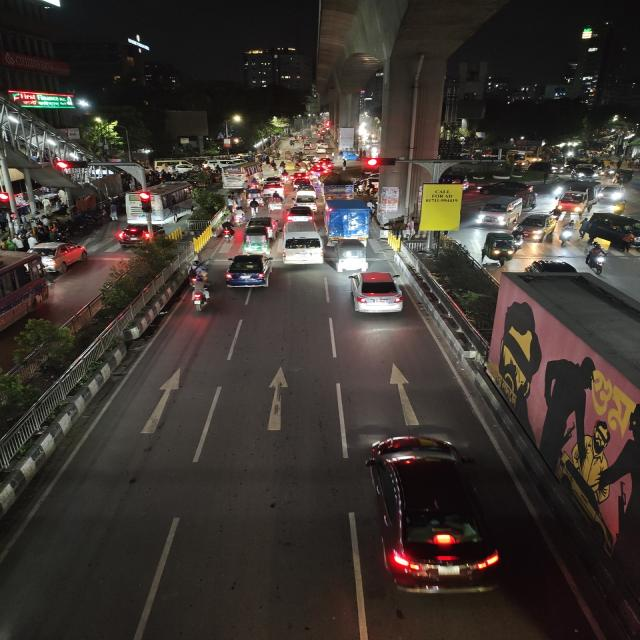bicycle: (248, 202, 262, 218)
bus: (0, 248, 51, 343), (128, 181, 196, 226), (218, 160, 260, 188)
car: (350, 426, 502, 597), (344, 268, 406, 319), (579, 211, 640, 251), (280, 220, 326, 268), (223, 250, 274, 292), (32, 240, 89, 272), (474, 198, 529, 228), (522, 256, 582, 282), (116, 222, 168, 249), (513, 212, 558, 242), (474, 180, 534, 193), (595, 179, 626, 203), (281, 204, 317, 223), (437, 173, 471, 187), (292, 191, 318, 205)
cng: (479, 230, 523, 266), (330, 238, 369, 274), (242, 223, 272, 255), (573, 165, 597, 181), (520, 191, 538, 209)
motorcycle: (186, 262, 213, 306), (186, 280, 213, 314), (584, 245, 610, 276), (186, 260, 210, 286), (558, 220, 576, 247), (217, 220, 236, 242), (231, 206, 247, 226)
pickup_van: (556, 182, 599, 213), (320, 170, 360, 199)
rickshaw: (266, 192, 285, 212)
truck: (323, 198, 378, 242)
